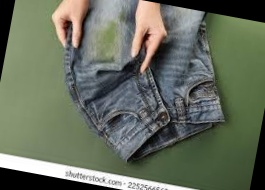earth: (91, 18, 122, 60)
